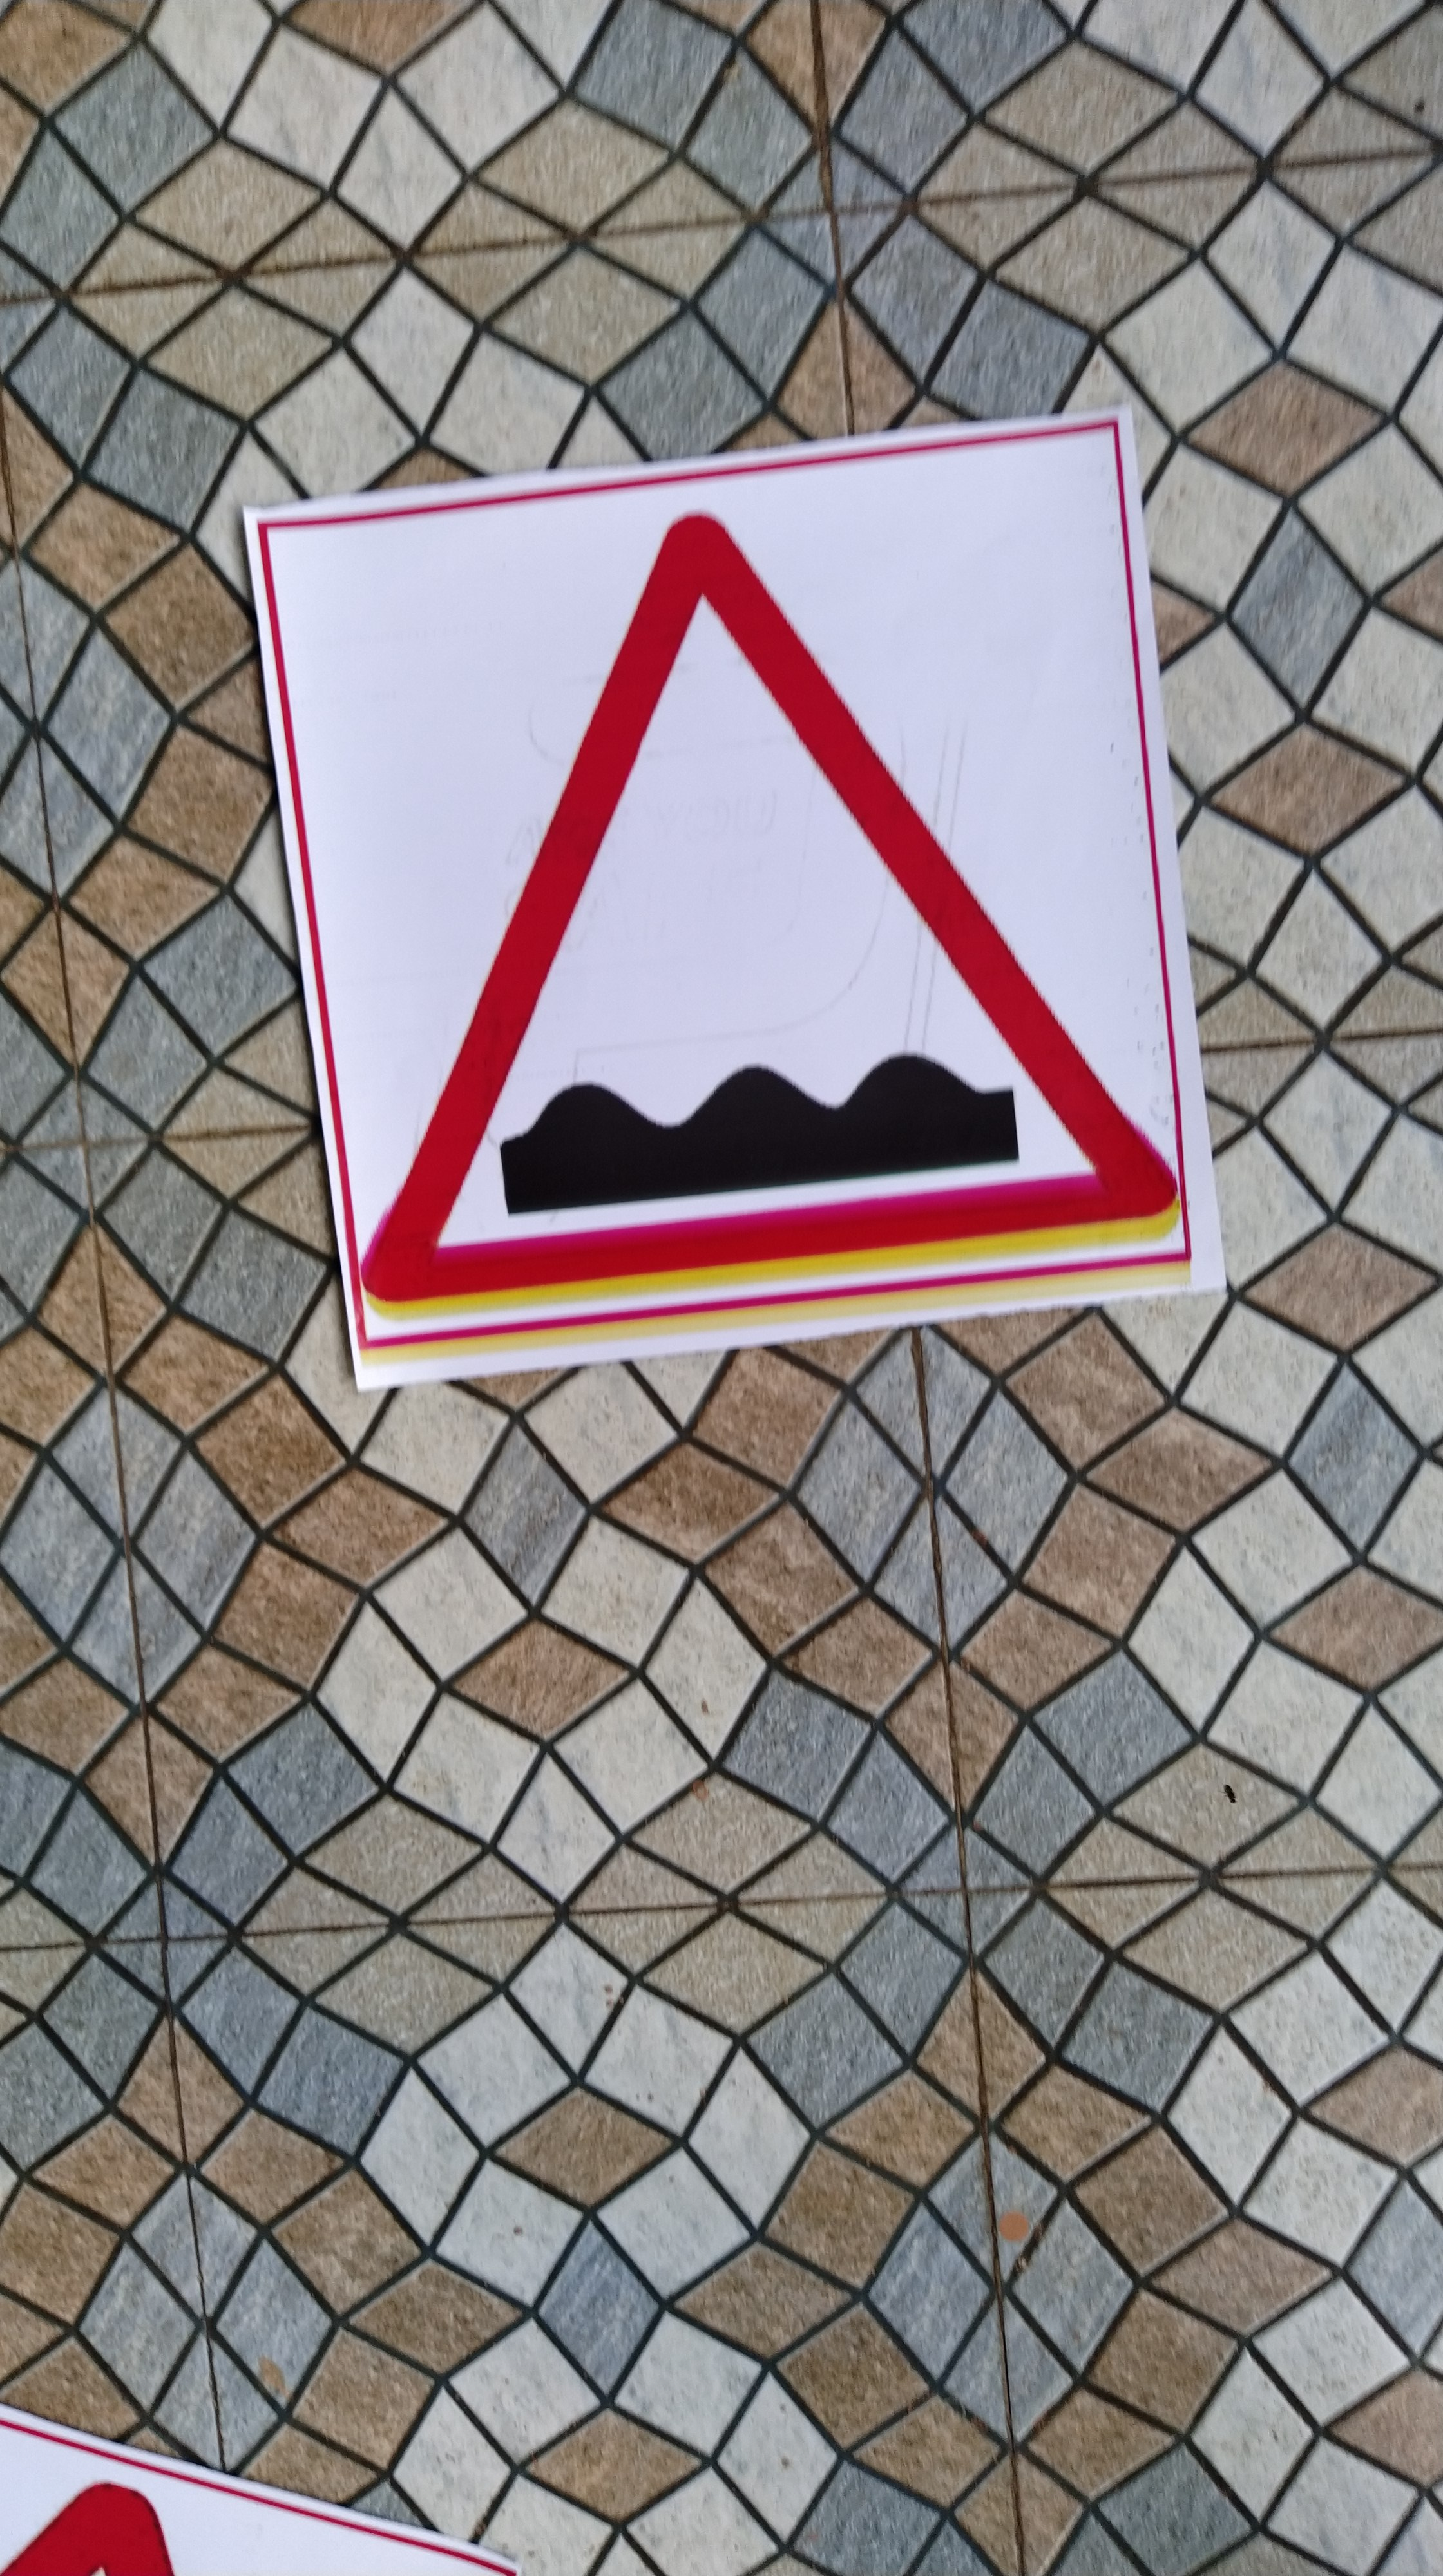speed breaker: (301, 529, 1218, 1277)
